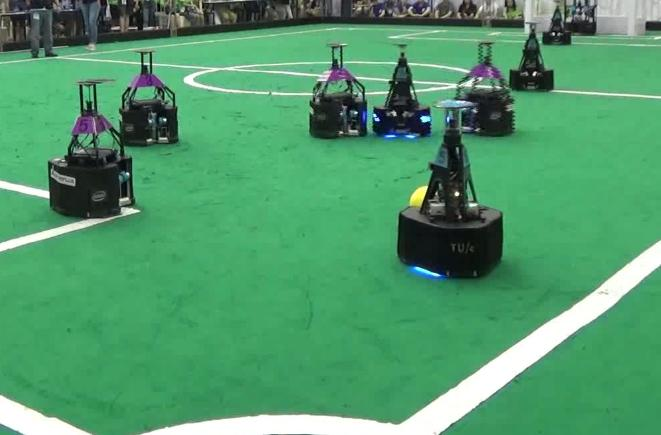robot: (394, 98, 506, 281), (43, 77, 140, 220), (115, 47, 183, 147), (368, 40, 435, 141), (449, 40, 518, 137), (305, 40, 369, 139), (506, 19, 555, 93), (542, 4, 574, 47)
